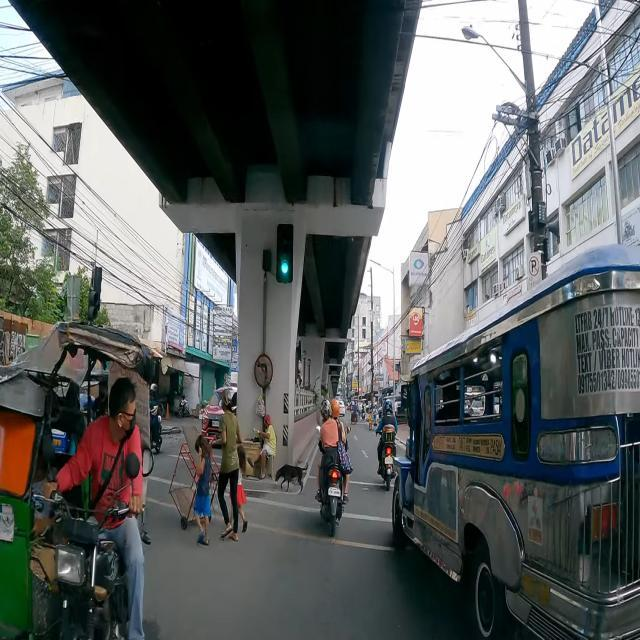jeepney: (393, 245, 640, 640)
motorcycle: (316, 400, 352, 536), (374, 400, 398, 490), (150, 382, 163, 452), (362, 406, 365, 420)
tricycle: (0, 322, 151, 640)
